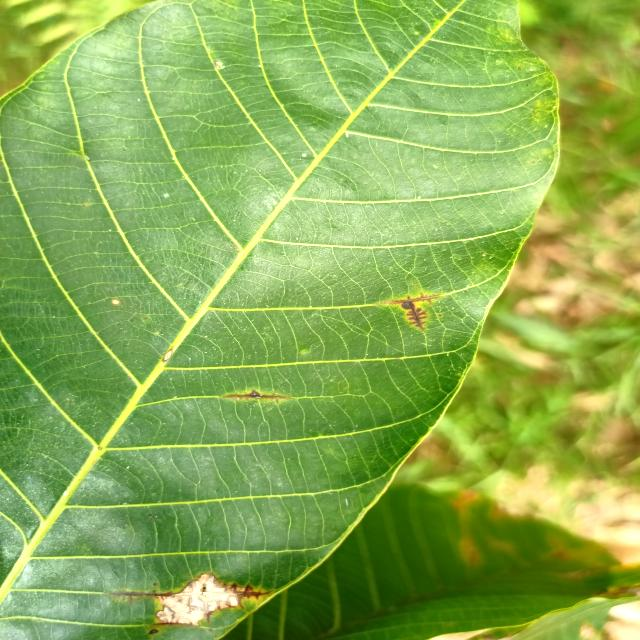Colletotrichum: (149, 629, 159, 635)
Corynespora: (110, 571, 274, 627), (374, 292, 442, 330), (220, 390, 291, 403)
Leaf-Blight: (157, 573, 239, 624)
